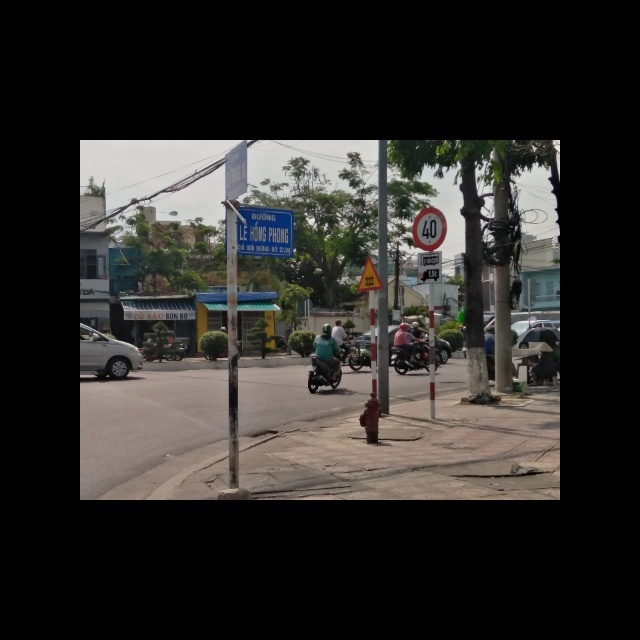Giao nhau với đường sắt có rào chắn: (357, 255, 383, 292)
Tốc độ tối đa cho phép 40km/h: (413, 207, 447, 252)
